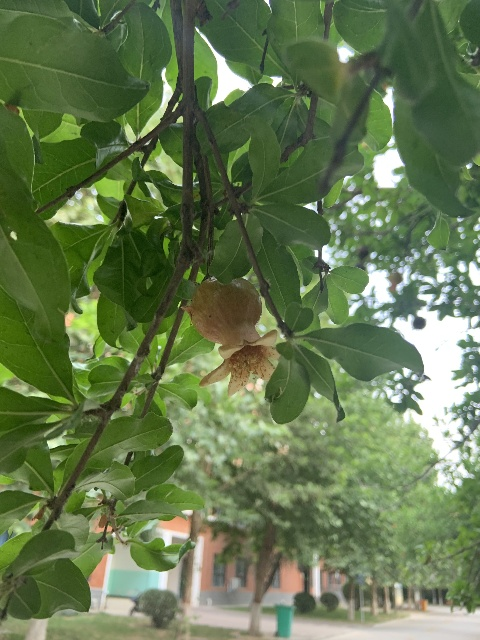early-fruit: (184, 277, 282, 393)
